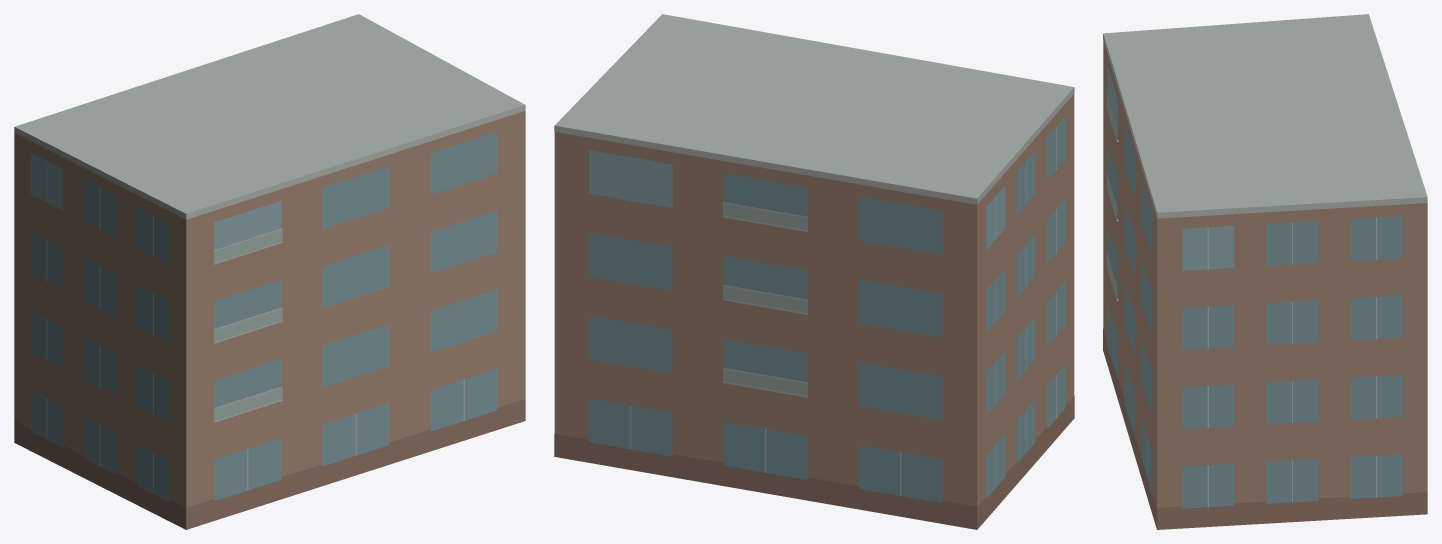
Rendered from survey-upis-32940724.glb.
The picture shows the model from 3 angles, left to right: view 1: azimuth 30°, elevation 25°; view 2: azimuth 150°, elevation 25°; view 3: azimuth 270°, elevation 25°; orthographic projection. The views are drawn at different scales.
Parts seen in each view (by area): view 1: survey-upis-32940724.tmp; view 2: survey-upis-32940724.tmp; view 3: survey-upis-32940724.tmp.
Boxes of the visible parts, x1,y1,x2,y2 form: survey-upis-32940724.tmp: [14, 14, 525, 529]; survey-upis-32940724.tmp: [554, 14, 1074, 529]; survey-upis-32940724.tmp: [1103, 14, 1427, 529].
Bounding box in the file's own units: 17.75 × 13.2 × 12.25.
